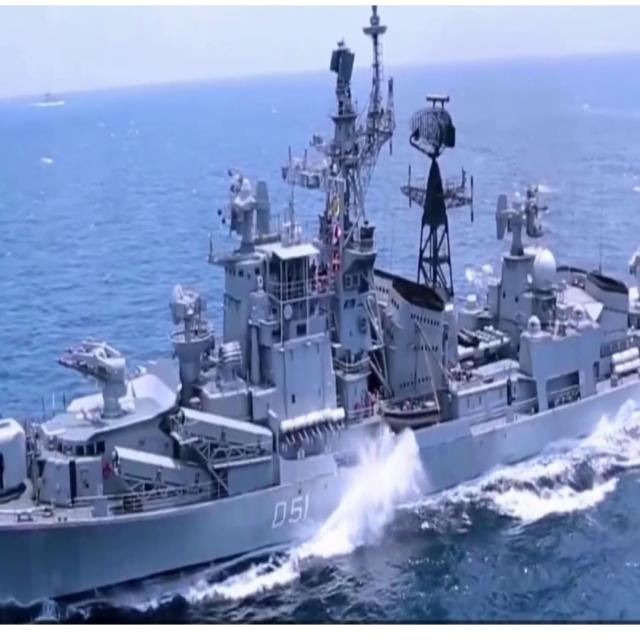OCR: (264, 486, 315, 537)
